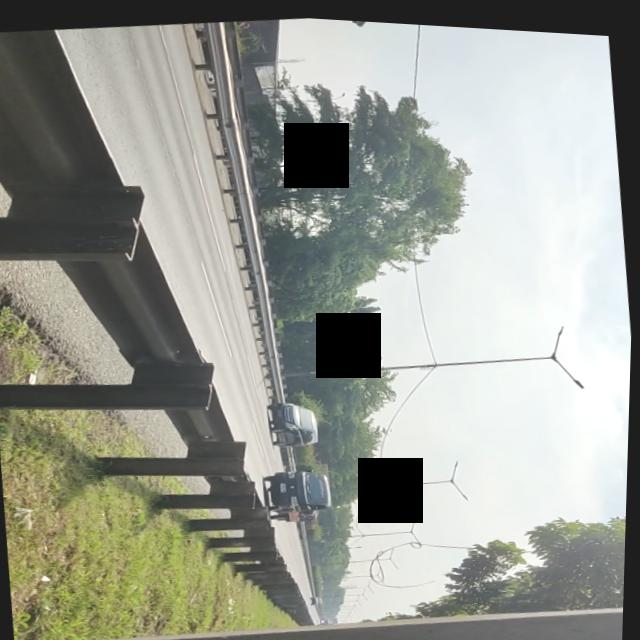Golongan I: (261, 460, 338, 525), (264, 394, 326, 450)
